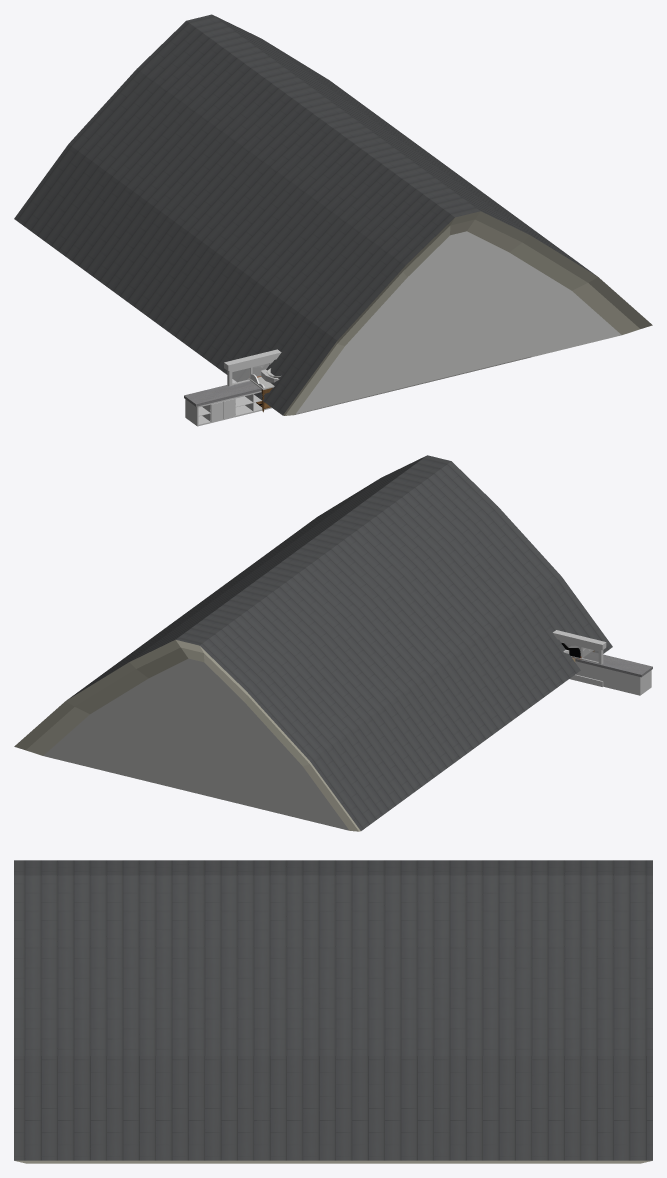
The picture shows the model from 3 angles, top to bottom: view 1: azimuth 30°, elevation 25°; view 2: azimuth 150°, elevation 25°; view 3: azimuth 270°, elevation 25°; orthographic projection. The views are drawn at different scales.
Parts seen in each view (by area): view 1: 肉店屋頂, Cube.004, 櫃子.001, 窗戶15; view 2: 肉店屋頂, Cube.004, 窗戶15, 櫃子.001; view 3: 肉店屋頂.
Part boxes in pixels (<box>): 肉店屋頂: <box>14,14,652,415</box>; Cube.004: <box>185,391,272,426</box>; 櫃子.001: <box>184,381,261,406</box>; 窗戶15: <box>224,349,281,386</box>; 肉店屋頂: <box>14,455,612,831</box>; Cube.004: <box>575,661,651,695</box>; 窗戶15: <box>553,630,606,686</box>; 櫃子.001: <box>572,652,652,677</box>; 肉店屋頂: <box>14,860,652,1163</box>.
Size of the model in its own units: 2021 by 758 by 2164.
